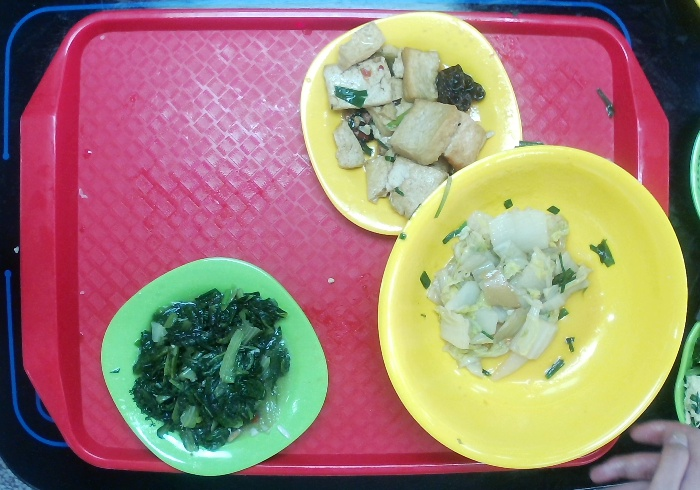YKMZ-Huang_Se_Fang_Die: (300, 9, 527, 238)
YKMZ-Huang_Se_Tang_Wan: (374, 143, 688, 471)
YKMZ-Lv_Se_Fang_Die: (102, 255, 333, 479)
